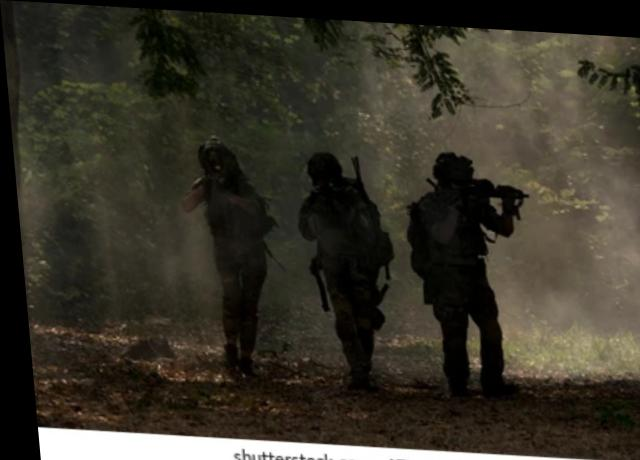other: (172, 123, 282, 370), (404, 142, 511, 375), (293, 133, 388, 369)
